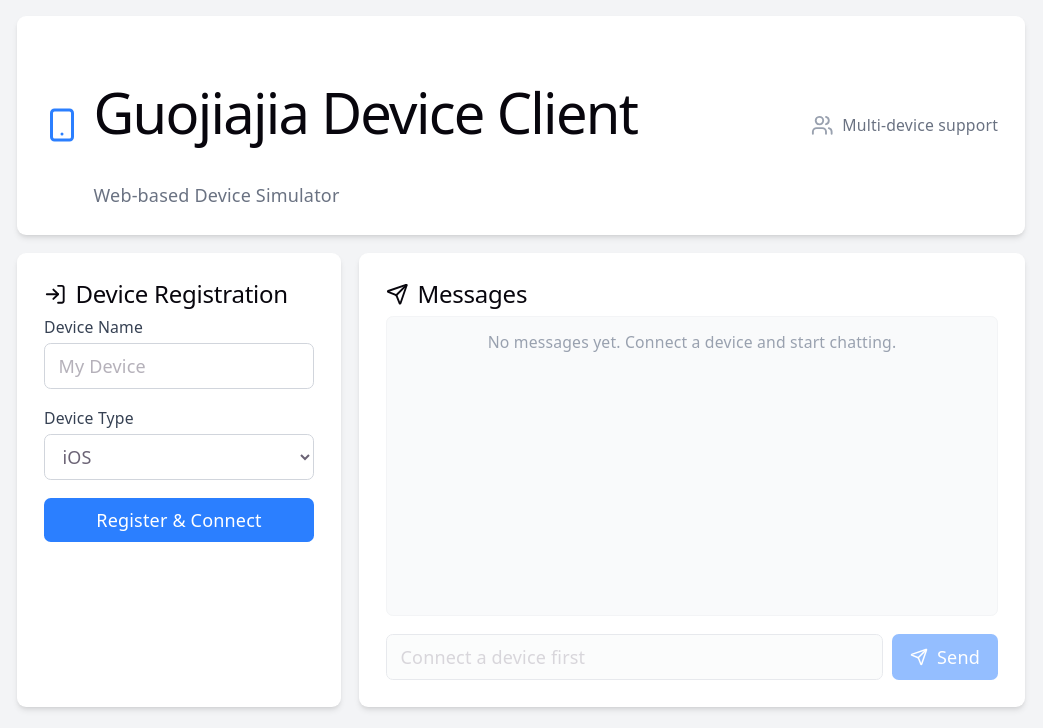
Device registration › shows device info after successful registration
Type "TestDevice" into the field with placeholder "My Device". click: (179, 366)
box: [44,343,314,389]
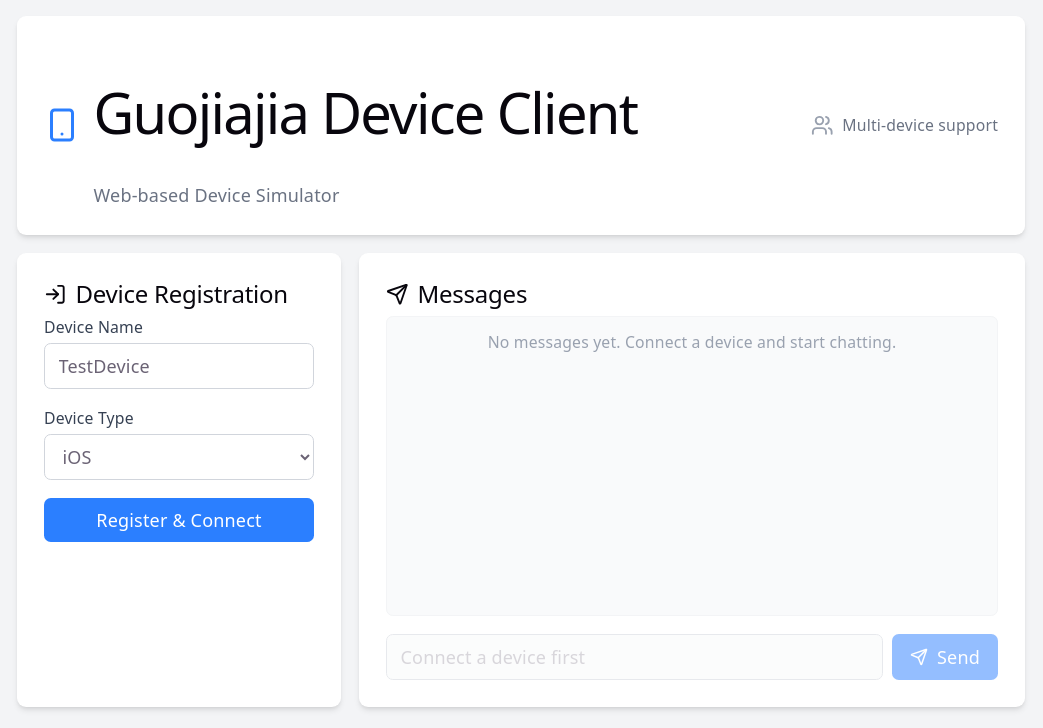
Click the button "Register & Connect". click: click(179, 520)
box: [44,498,314,542]
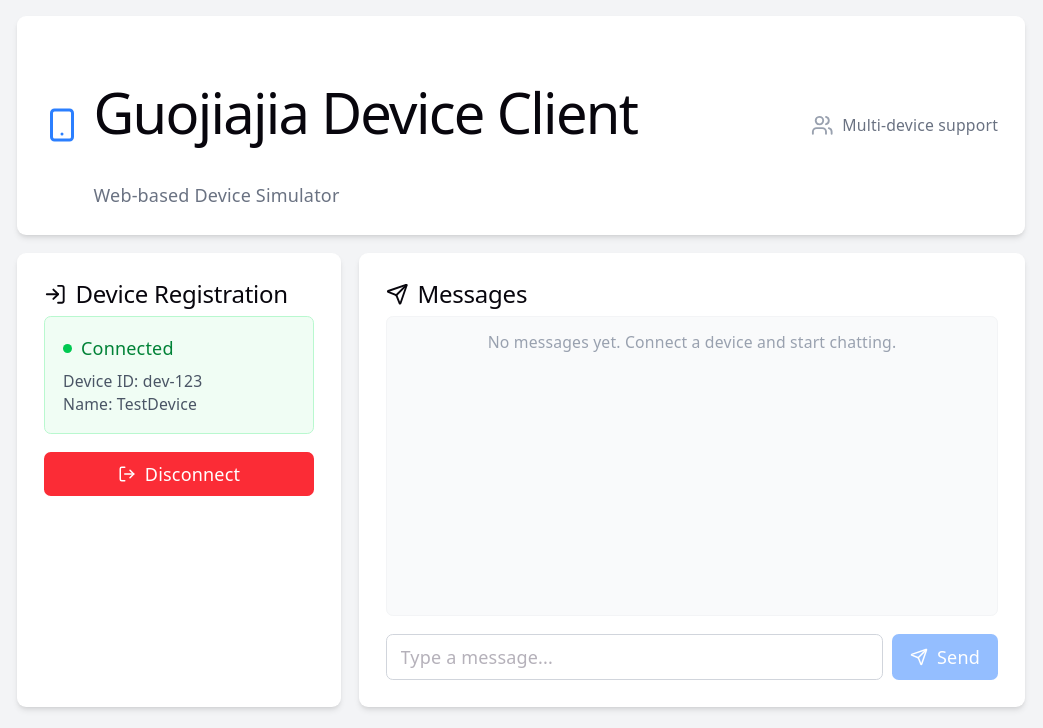
Now the text "Device ID: dev-123" is shown, box [63,370,202,392]
